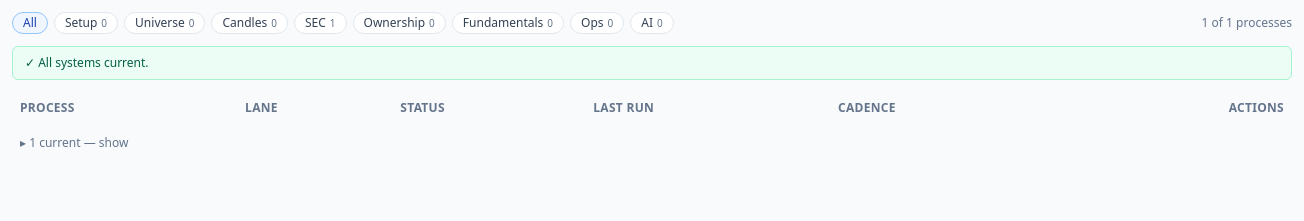
it: ProcessesTable › renders empty-state copy when lane filter excludes all rows
Click the button "▸ 1 current — show": (74, 143) [20,135,128,151]
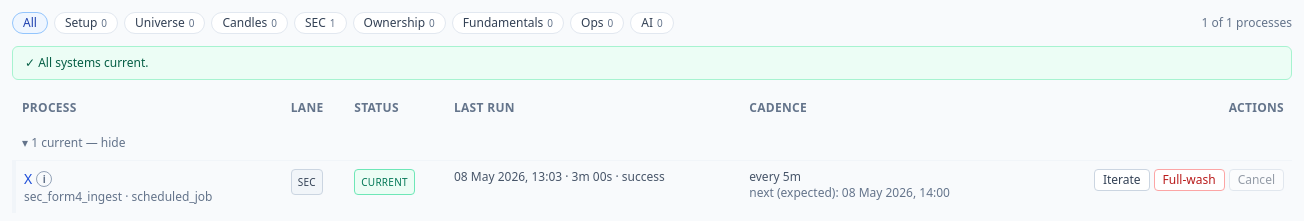
Click the button "Ownership0": (399, 23) [352,12,446,34]
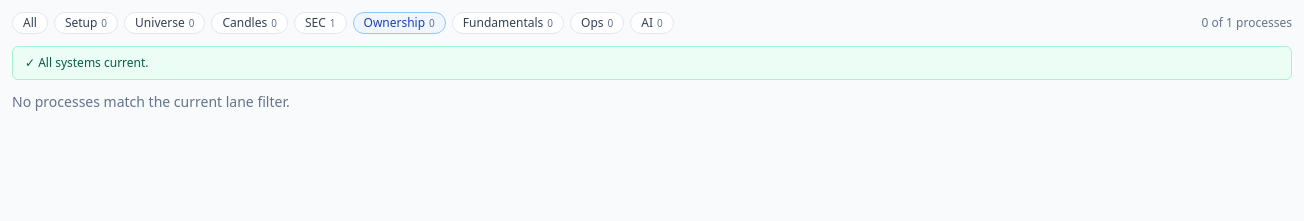
Expected: the text "No processes match the current lane filter." is shown, [12,92,290,111]
